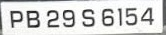character: (26, 10, 41, 28), (81, 8, 95, 27), (140, 6, 154, 24), (10, 9, 23, 28), (125, 6, 138, 25), (46, 9, 59, 27), (62, 9, 75, 27), (101, 8, 114, 26), (117, 7, 123, 27)
